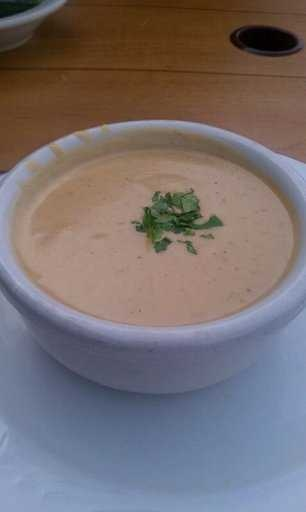soup: (2, 133, 295, 350)
